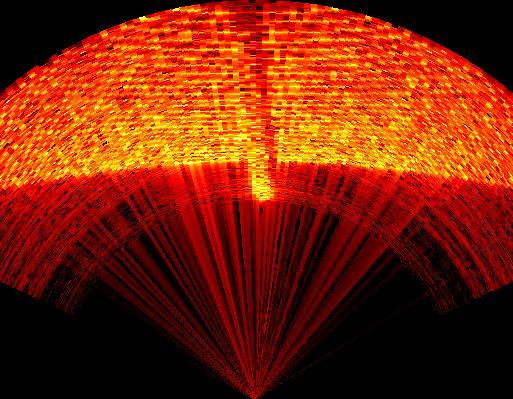pipe: (214, 3, 283, 203)
